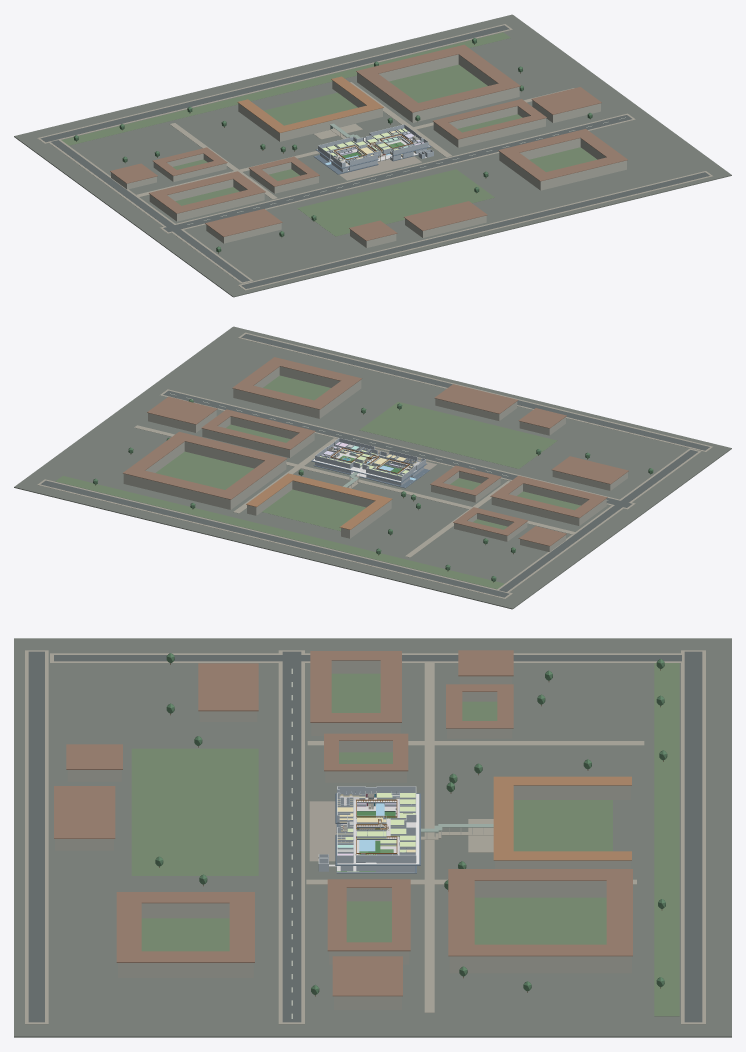
File: lc3-campus.glb
3 views of the same model, one above another, from view 1: azimuth 30°, elevation 25°; view 2: azimuth 150°, elevation 25°; view 3: azimuth 270°, elevation 25° (orthographic). The views are drawn at different scales.
Parts seen in each view (by area): view 1: Surrounding_Buildings, Site_Ground, LC3_Floor_2.002, LC3_Floor_1.002; view 2: Surrounding_Buildings, Site_Ground, LC3_Floor_2.002, LC3_Floor_1.002; view 3: Surrounding_Buildings, Site_Ground, LC3_Floor_2.002, LC3_Floor_1.002, Covered_Link.
Boxes of the visible parts, x1,y1,x2,y2 form: Surrounding_Buildings: [37, 24, 712, 290]; Site_Ground: [14, 14, 731, 297]; LC3_Floor_2.002: [315, 124, 431, 168]; LC3_Floor_1.002: [313, 136, 426, 174]; Surrounding_Buildings: [37, 332, 712, 598]; Site_Ground: [14, 326, 731, 609]; LC3_Floor_2.002: [311, 438, 426, 482]; LC3_Floor_1.002: [313, 450, 429, 488]; Surrounding_Buildings: [25, 650, 705, 1024]; Site_Ground: [14, 638, 731, 1037]; LC3_Floor_2.002: [335, 786, 420, 865]; LC3_Floor_1.002: [336, 798, 416, 873]; Covered_Link: [421, 824, 493, 839].
Bounding box in the file's own units: 315 × 7.18 × 240.
